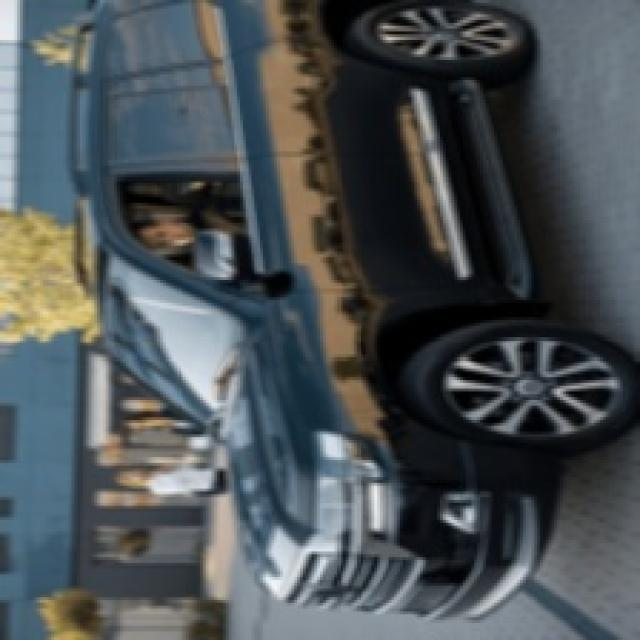car: (42, 14, 549, 622)
